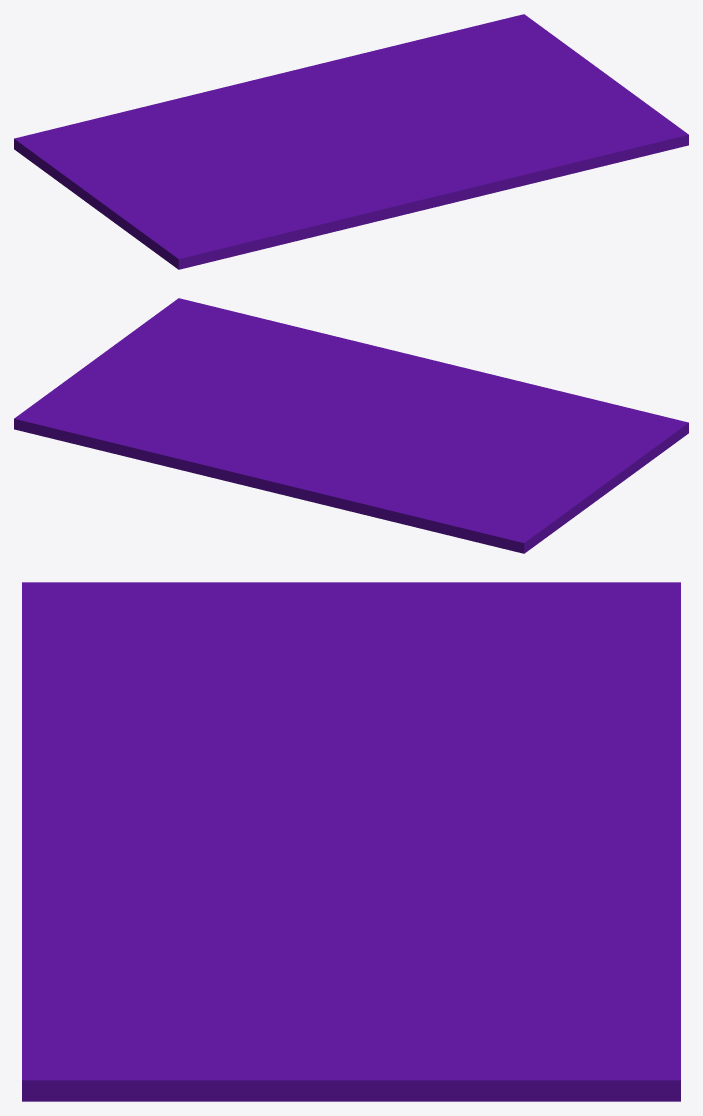
File: Exhibition_19.010_chunks.fbx
3 views of the same model, one above another, from view 1: azimuth 30°, elevation 25°; view 2: azimuth 150°, elevation 25°; view 3: azimuth 270°, elevation 25° (orthographic). The views are drawn at different scales.
Parts seen in each view (by area): view 1: Exhibition_19.010_2, Exhibition_19.010_0, Exhibition_19.010_6, Exhibition_19.010_4, Exhibition_19.010_3, Exhibition_19.010_5; view 2: Exhibition_19.010_2, Exhibition_19.010_0, Exhibition_19.010_6, Exhibition_19.010_4, Exhibition_19.010_3, Exhibition_19.010_5; view 3: Exhibition_19.010_2, Exhibition_19.010_0, Exhibition_19.010_6, Exhibition_19.010_4, Exhibition_19.010_3, Exhibition_19.010_5.
Part boxes in pixels (<box>): Exhibition_19.010_2: <box>353,14,688,200</box>; Exhibition_19.010_0: <box>42,136,461,269</box>; Exhibition_19.010_6: <box>232,33,445,141</box>; Exhibition_19.010_4: <box>14,77,265,156</box>; Exhibition_19.010_3: <box>24,122,276,169</box>; Exhibition_19.010_5: <box>255,54,358,96</box>; Exhibition_19.010_2: <box>14,298,405,449</box>; Exhibition_19.010_0: <box>351,353,688,532</box>; Exhibition_19.010_6: <box>92,420,399,475</box>; Exhibition_19.010_4: <box>272,472,535,553</box>; Exhibition_19.010_3: <box>381,445,552,546</box>; Exhibition_19.010_5: <box>94,443,316,494</box>; Exhibition_19.010_2: <box>22,832,680,1101</box>; Exhibition_19.010_0: <box>22,582,566,858</box>; Exhibition_19.010_6: <box>350,758,680,1003</box>; Exhibition_19.010_4: <box>532,582,680,828</box>; Exhibition_19.010_3: <box>403,582,636,771</box>; Exhibition_19.010_5: <box>611,800,680,918</box>.
Size of the model in its own units: 642 by 12.85 by 359.
